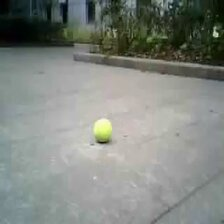tennis: (93, 118, 112, 142)
